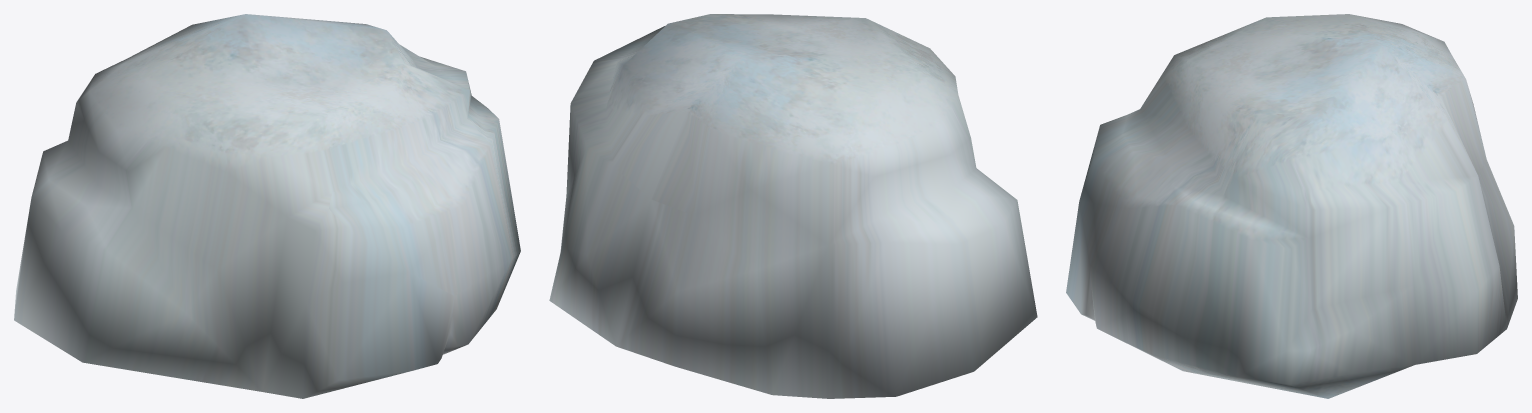
Rendered from P_RockDesert_Rock13.obj.
3 views of the same model, side by side, from view 1: azimuth 30°, elevation 25°; view 2: azimuth 150°, elevation 25°; view 3: azimuth 270°, elevation 25° (orthographic). The views are drawn at different scales.
Size of the model in its own units: 3.59 by 2.23 by 3.13.
